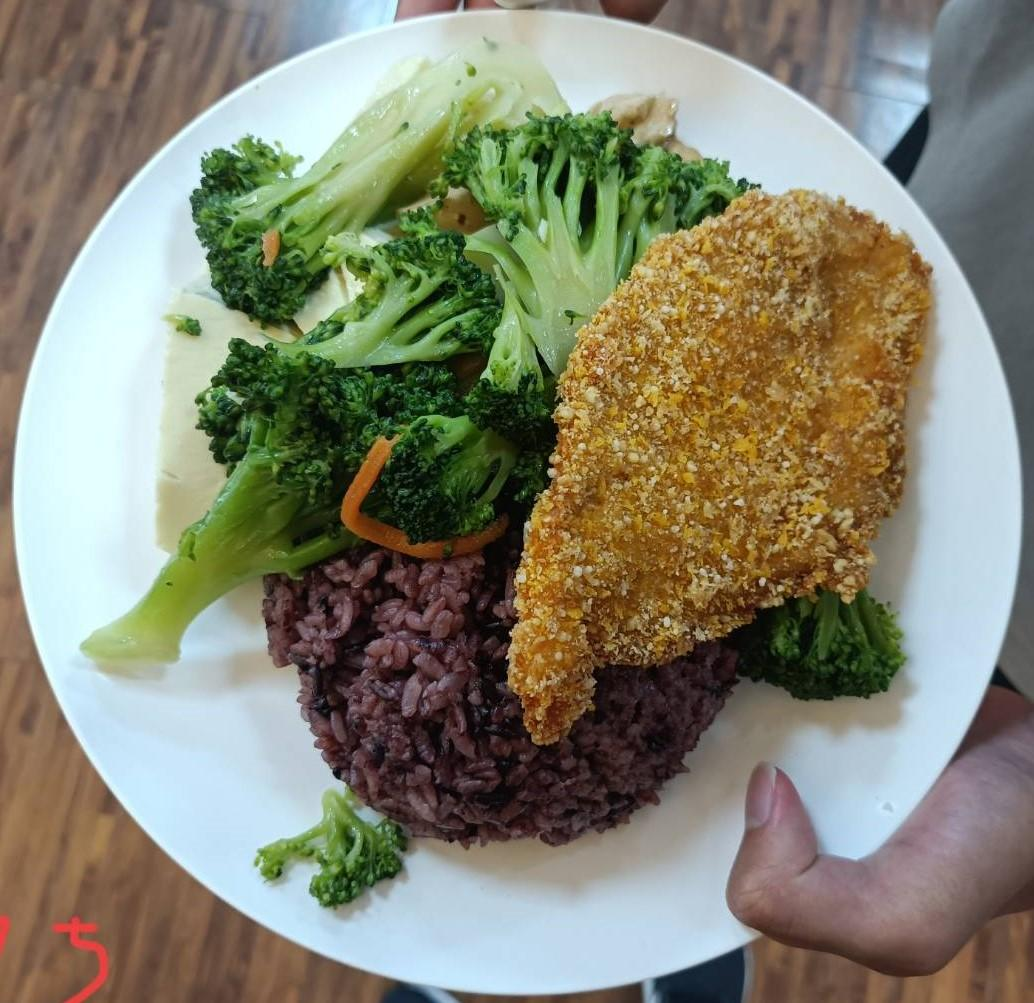big fried chicken leg: (13, 10, 1021, 986)
braised fish: (289, 558, 725, 840)
braised fish fillet: (171, 58, 639, 522)
braised pork: (531, 184, 943, 708)
